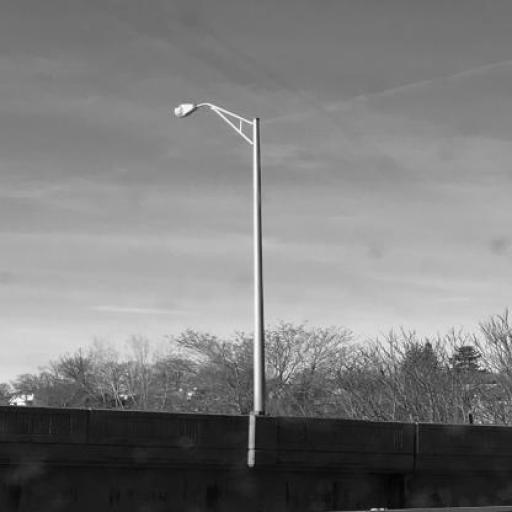street light: (172, 102, 267, 414)
